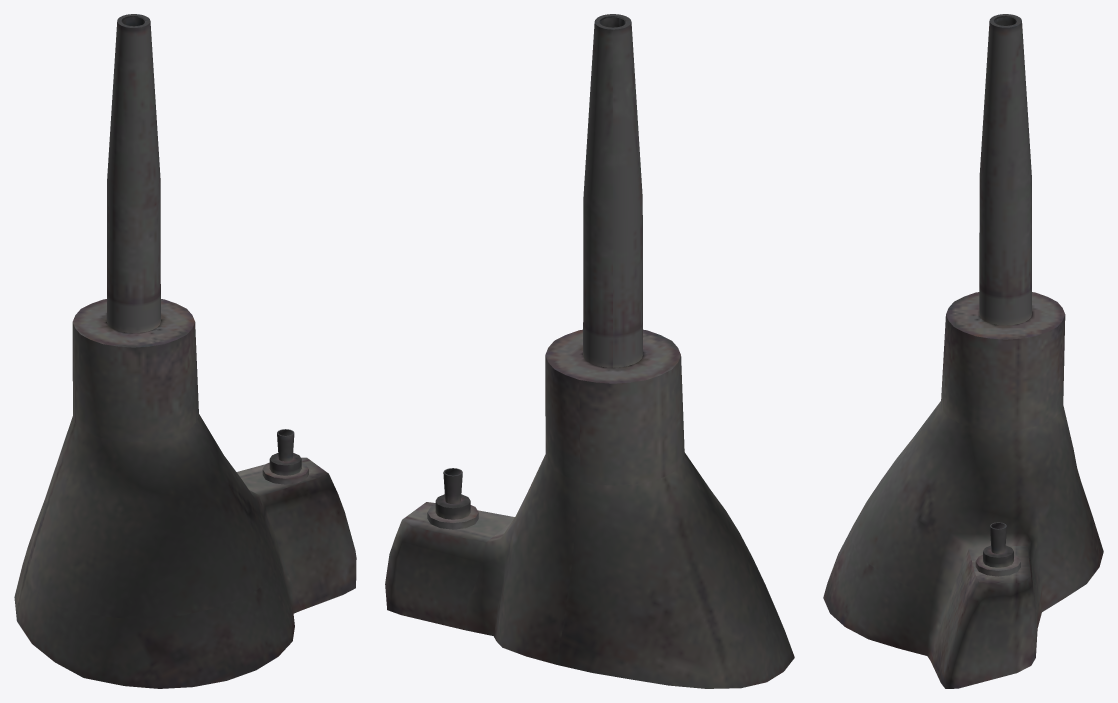
File: Gun_06.glb
3 renders of one model, left to right at view 1: azimuth 30°, elevation 25°; view 2: azimuth 150°, elevation 25°; view 3: azimuth 270°, elevation 25°, orthographic. The views are drawn at different scales.
Parts seen in each view (by area): view 1: set_0_group_0; view 2: set_0_group_0; view 3: set_0_group_0.
Boxes of the visible parts, x1=… form: set_0_group_0: x1=14, y1=14, x2=356, y2=688; set_0_group_0: x1=385, y1=14, x2=794, y2=688; set_0_group_0: x1=823, y1=14, x2=1103, y2=688.
Bounding box in the file's own units: 0.6292 × 1.11 × 0.4893.
1 material, 1 textured.
